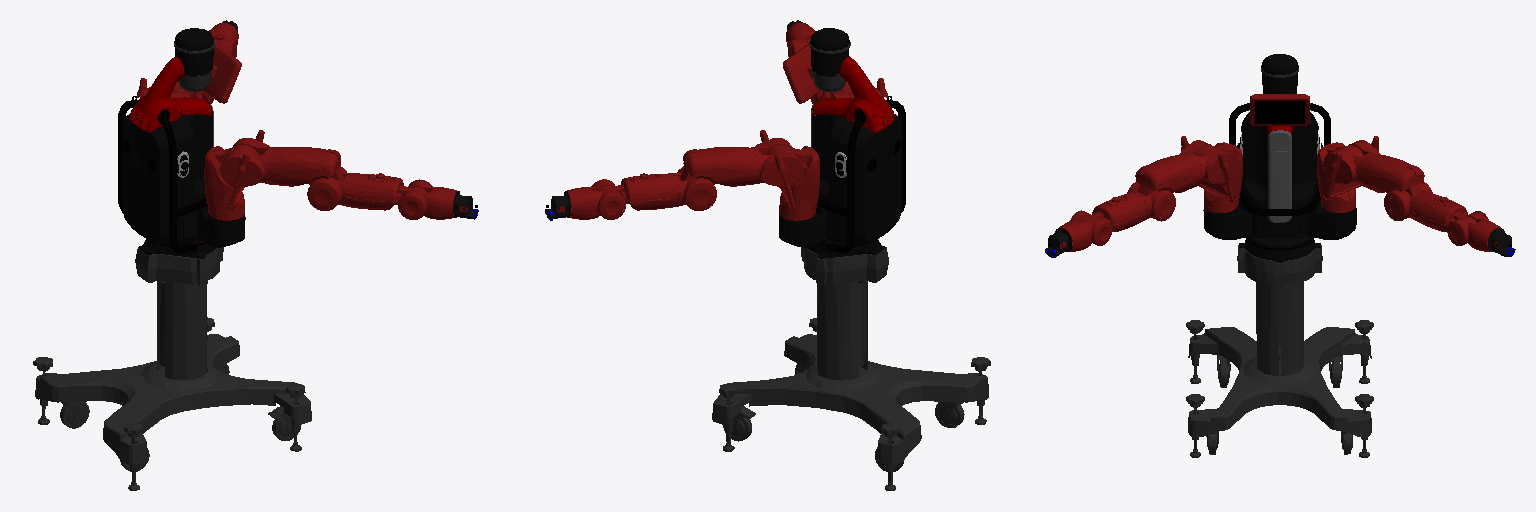
--- Render facts (derived) ---
Views: 3 orthographic renders of the robot side by side, from view 1: azimuth 30°, elevation 25°; view 2: azimuth 150°, elevation 25°; view 3: azimuth 270°, elevation 25°.
Robot: baxter — 49 links, 48 joints (15 revolute, 33 fixed); root link base; default pose: every joint at zero.
Links seen in each view (by area): view 1: pedestal, torso, right_upper_elbow, right_upper_shoulder, right_upper_forearm, right_lower_forearm, right_lower_shoulder, screen, right_lower_elbow, left_lower_forearm; view 2: pedestal, torso, left_upper_elbow, left_upper_shoulder, left_upper_forearm, left_lower_forearm, left_lower_shoulder, screen, left_lower_elbow, right_lower_forearm; view 3: pedestal, torso, left_upper_elbow, right_upper_elbow, right_upper_shoulder, left_upper_shoulder, left_upper_forearm, right_upper_forearm, left_lower_forearm, right_lower_forearm, display, left_lower_shoulder (+4 smaller).
Link boxes in pixels (x1,y1,x2,y2): pedestal: (33,247,311,490); torso: (118,28,245,258); right_upper_elbow: (267,147,343,186); right_upper_shoulder: (204,130,264,220); right_upper_forearm: (346,173,426,210); right_lower_forearm: (398,179,456,219); right_lower_shoulder: (220,138,272,187); screen: (203,43,241,103); right_lower_elbow: (307,166,350,210); left_lower_forearm: (209,23,238,57); pedestal: (712,247,990,490); torso: (779,28,905,258); left_upper_elbow: (680,147,757,186); left_upper_shoulder: (760,130,819,220); left_upper_forearm: (597,173,677,210); left_lower_forearm: (567,179,625,219); left_lower_shoulder: (751,138,803,187); screen: (783,44,820,103); left_lower_elbow: (673,166,716,210); right_lower_forearm: (786,23,814,56); pedestal: (1186,245,1373,457); torso: (1203,54,1356,262); left_upper_elbow: (1357,154,1424,195); right_upper_elbow: (1135,153,1202,195); right_upper_shoulder: (1181,136,1242,212); left_upper_shoulder: (1317,136,1378,212); left_upper_forearm: (1412,192,1476,231); right_upper_forearm: (1080,192,1147,231); left_lower_forearm: (1447,211,1500,251); right_lower_forearm: (1059,210,1111,251); display: (1255,101,1304,123); left_lower_shoulder: (1323,140,1380,184).
Bounding box of the posed robot: 1.34 × 2.07 × 1.8 m (x, y, z).
18 mesh visuals loaded from 11 distinct referenced files (11 Collada DAE).

URDF robot description (baxter):
<?xml version="1.0"?>
<!-- ============================================================================================== -->
<!-- |                                                                                            | -->
<!-- |    baxter.urdf is DEPRECATED. It is included here for backward compatibility.              | -->
<!-- |    Please use baxter.urdf.xacro by running:                                                | -->
<!-- |$ rosrun xacro xacro.py - -inorder `rospack find baxter_description`/urdf/baxter.urdf.xacro | -->
<!-- |                                                                                            | -->
<!-- ============================================================================================== -->
<robot name="baxter">
  <link name="base">
  </link>
  <link name="torso">
    <visual>
      <origin rpy="0 0 0" xyz="0 0 0" />
      <geometry>
        <mesh filename="package://baxter_description/meshes/torso/base_link.DAE" />
      </geometry>
    </visual>
    <collision>
      <origin rpy="0 0 0" xyz="0 0 0" />
      <geometry>
        <mesh filename="package://baxter_description/meshes/torso/base_link_collision.DAE" />
      </geometry>
    </collision>
    <inertial>
      <origin rpy="0 0 0" xyz="0.000000 0.000000 0.000000" />
      <mass value="35.336455" />
      <inertia ixx="1.849155" ixy="-0.000354" ixz="-0.154188" iyy="1.662671" iyz="0.003292"
        izz="0.802239" />
    </inertial>
  </link>
  <link name="left_torso_itb">
    <inertial>
      <origin rpy="0 0 0" xyz="0.000000 0.000000 0.000000" />
      <mass value="0.0001" />
      <inertia ixx="1e-08" ixy="0" ixz="0" iyy="1e-08" iyz="0" izz="1e-08" />
    </inertial>
  </link>
  <link name="right_torso_itb">
    <inertial>
      <origin rpy="0 0 0" xyz="0.000000 0.000000 0.000000" />
      <mass value="0.0001" />
      <inertia ixx="1e-08" ixy="0" ixz="0" iyy="1e-08" iyz="0" izz="1e-08" />
    </inertial>
  </link>
  <link name="pedestal">
    <visual>
      <origin rpy="0 0 0" xyz="0 0 0" />
      <geometry>
        <mesh filename="package://baxter_description/meshes/base/PEDESTAL.DAE" />
      </geometry>
      <material name="darkgray">
        <color rgba=".2 .2 .2 1" />
      </material>
    </visual>
    <collision>
      <origin rpy="0 0 0" xyz="0 0 0" />
      <geometry>
        <mesh filename="package://baxter_description/meshes/base/pedestal_link_collision.DAE" />
      </geometry>
    </collision>
    <inertial>
      <origin rpy="0 0 0" xyz="0 0 0" />
      <mass value="60.86397744" />
      <inertia ixx="5.0635929" ixy="0.00103417" ixz="0.80199628" iyy="6.08689388" iyz="0.00105311"
        izz="4.96191932" />
    </inertial>
  </link>
  <link name="head">
    <visual>
      <origin rpy="0 0 0" xyz="0 0 .00953" />
      <geometry>
        <mesh filename="package://baxter_description/meshes/head/H0.DAE" />
      </geometry>
      <material name="darkgray">
        <color rgba=".2 .2 .2 1" />
      </material>
    </visual>
    <collision>
      <origin rpy="0 0 0" xyz="0.0 0 0.0" />
      <geometry>
        <sphere radius="0.001" />
      </geometry>
    </collision>
    <inertial>
      <origin rpy="0 0 0" xyz="0 0 0" />
      <mass value="0.547767" />
      <inertia ixx="0.004641" ixy="0.000159" ixz="0.000242" iyy="0.003295" iyz="-0.001324"
        izz="0.003415" />
    </inertial>
  </link>
  <link name="sonar_ring">
    <visual>
      <origin rpy="0 0 0" xyz="-.0347 0 .00953" />
      <geometry>
        <cylinder length="0.01" radius="0.085" />
      </geometry>
      <material name="darkgray">
        <color rgba=".2 .2 .2 1" />
      </material>
    </visual>
    <collision>
      <origin rpy="0 0 0" xyz="0.0 0 0.0" />
      <geometry>
        <sphere radius="0.001" />
      </geometry>
    </collision>
    <inertial>
      <origin rpy="0 0 0" xyz="0 0 0" />
      <mass value="0.0001" />
      <inertia ixx="1e-08" ixy="0" ixz="0" iyy="1e-08" iyz="0" izz="1e-08" />
    </inertial>
  </link>
  <link name="screen">
    <visual>
      <origin rpy="0 -1.57079632679 0" xyz="0 -.00953 -.0347" />
      <geometry>
        <mesh filename="package://baxter_description/meshes/head/H1.DAE" />
      </geometry>
      <material name="darkred">
        <color rgba=".5 .1 .1 1" />
      </material>
    </visual>
    <collision>
      <origin rpy="0 0 0" xyz="0.0 0 0.0" />
      <geometry>
        <sphere radius="0.001" />
      </geometry>
    </collision>
    <inertial>
      <origin rpy="0 0 0" xyz="0 0 0" />
      <mass value="0.440171" />
      <inertia ixx="0.004006" ixy="0.000230" ixz="0.000002" iyy="0.002800" iyz="0.000029"
        izz="0.001509" />
    </inertial>
  </link>
  <link name="display">
    <visual>
      <origin rpy="0.2617993877991494 0 0" xyz="0 0 0" />
      <geometry>
        <box size="0.218 0.16 0.001" />
      </geometry>
      <material name="black">
        <color rgba="0 0 0 1" />
      </material>
    </visual>
    <inertial>
      <origin rpy="0 0 0" xyz="0 0 0" />
      <mass value="0.0001" />
      <inertia ixx="1e-08" ixy="0" ixz="0" iyy="1e-08" iyz="0" izz="1e-08" />
    </inertial>
  </link>
  <link name="head_camera">
    <inertial>
      <origin rpy="0 0 0" xyz="0 0 0" />
      <mass value="0.0001" />
      <inertia ixx="1e-08" ixy="0" ixz="0" iyy="1e-08" iyz="0" izz="1e-08" />
    </inertial>
  </link>
  <link name="dummyhead1">
    <inertial>
      <origin rpy="0 0 0" xyz="0 0 0" />
      <mass value="0.0001" />
      <inertia ixx="1e-08" ixy="0" ixz="0" iyy="1e-08" iyz="0" izz="1e-08" />
    </inertial>
  </link>
  <link name="collision_head_link_1">
    <visual>
      <origin rpy="0 0 0" xyz="0 0 0" />
      <geometry>
        <sphere radius="0.001" />
      </geometry>
      <material name="red">
        <color rgba="0.8 0.3 0.3 0.3" />
      </material>
    </visual>
    <collision>
      <origin rpy="0 0 0.0" xyz="-0.07 -0.04 0.0" />
      <geometry>
        <sphere radius="0.22" />
      </geometry>
    </collision>
    <inertial>
      <origin rpy="0 0 0" xyz="0 0 0" />
      <mass value="0.0001" />
      <inertia ixx="1e-08" ixy="0" ixz="0" iyy="1e-08" iyz="0" izz="1e-08" />
    </inertial>
  </link>
  <link name="collision_head_link_2">
    <visual>
      <origin rpy="0 0 0" xyz="0 0 0" />
      <geometry>
        <sphere radius="0.001" />
      </geometry>
      <material name="red">
        <color rgba="0.8 0.3 0.3 0.3" />
      </material>
    </visual>
    <collision>
      <origin rpy="0 0 0" xyz="-0.07 0.04 0.00" />
      <geometry>
        <sphere radius="0.22" />
      </geometry>
    </collision>
    <inertial>
      <origin rpy="0 0 0" xyz="0 0 0" />
      <mass value="0.0001" />
      <inertia ixx="1e-08" ixy="0" ixz="0" iyy="1e-08" iyz="0" izz="1e-08" />
    </inertial>
  </link>
  <joint name="collision_head_1" type="fixed">
    <origin rpy="0 0 0" xyz="0.11 0 0.75" />
    <parent link="base" />
    <child link="collision_head_link_1" />
  </joint>
  <joint name="collision_head_2" type="fixed">
    <origin rpy="0 0 0" xyz="0.11 0 0.75" />
    <parent link="base" />
    <child link="collision_head_link_2" />
  </joint>
  <joint name="dummy" type="fixed">
    <origin rpy="0 0 0" xyz="0 0 0" />
    <parent link="head" />
    <child link="dummyhead1" />
  </joint>
  <joint name="torso_t0" type="fixed">
    <origin rpy="0 0 0" xyz="0 0 0" />
    <parent link="base" />
    <child link="torso" />
    <limit effort="50000" lower="-3.01" upper="3.01" velocity="10000" />
  </joint>
  <joint name="left_torso_itb_fixed" type="fixed">
    <origin rpy="-1.57079632679 3.1415 0" xyz="-0.08897 0.15593 0.389125" />
    <parent link="torso" />
    <child link="left_torso_itb" />
  </joint>
  <joint name="right_torso_itb_fixed" type="fixed">
    <origin rpy="1.57079632679 0 0" xyz="-0.08897 -0.15593 0.389125" />
    <parent link="torso" />
    <child link="right_torso_itb" />
  </joint>
  <joint name="pedestal_fixed" type="fixed">
    <origin rpy="0 0 0" xyz="0.0 0.0 0.0" />
    <parent link="torso" />
    <child link="pedestal" />
  </joint>
  <joint name="head_pan" type="revolute">
    <origin rpy="0 0 0" xyz="0.06 0 0.686" />
    <axis xyz="0 0 1" />
    <parent link="torso" />
    <child link="head" />
    <limit effort="50000" lower="-1.57079632679" upper="1.57079632679" velocity="10000" />
    <dynamics damping="0.7" friction="0.0" />
  </joint>
  <joint name="head_nod" type="fixed">
    <origin rpy="1.75057 0 1.57079632679" xyz=".1227 0 0" />
    <parent link="head" />
    <child link="screen" />
  </joint>
  <joint name="head_camera" type="fixed">
    <origin rpy="1.75057 0 1.57079632679" xyz="0.12839 0 0.06368" />
    <parent link="head" />
    <child link="head_camera" />
  </joint>
  <joint name="display_joint" type="fixed">
    <origin rpy="0 0 0" xyz="0.0 -0.016 0.0" />
    <parent link="screen" />
    <child link="display" />
  </joint>
  <joint name="sonar_s0" type="fixed">
    <origin rpy="0 0 0" xyz="0.0947 0 .817" />
    <axis xyz="0 0 1" />
    <parent link="torso" />
    <child link="sonar_ring" />
  </joint>
  <link name="right_arm_mount">
    <!-- all defaults -->
    <gravity>0</gravity>
    <inertial>
      <origin rpy="0 0 0" xyz="0 0 0" />
      <mass value="0.0001" />
      <inertia ixx="1e-08" ixy="0" ixz="0" iyy="1e-08" iyz="0" izz="1e-08" />
    </inertial>
  </link>
  <link name="right_upper_shoulder">
    <gravity>0</gravity>
    <visual>
      <origin rpy="0 0 0" xyz="0 0 0" />
      <geometry>
        <mesh filename="package://baxter_description/meshes/upper_shoulder/S0.DAE" />
      </geometry>
      <material name="darkred">
        <color rgba=".5 .1 .1 1" />
      </material>
    </visual>
    <collision>
      <origin rpy="0 0 0" xyz="0 0 0.1361" />
      <geometry>
        <cylinder length="0.2722" radius="0.06" />
      </geometry>
    </collision>
    <inertial>
      <origin rpy="0 0 0" xyz="0.01783 0.00086 0.19127" />
      <mass value="5.70044" />
      <inertia ixx="0.04709102262" ixy="0.00012787556" ixz="0.00614870039" iyy="0.03766976455"
        iyz="0.00078086899" izz="0.03595988478" />
    </inertial>
  </link>
  <link name="right_lower_shoulder">
    <gravity>0</gravity>
    <visual>
      <origin rpy="0 0 0" xyz="0 0 0" />
      <geometry>
        <mesh filename="package://baxter_description/meshes/lower_shoulder/S1.DAE" />
      </geometry>
      <material name="darkred">
        <color rgba=".5 .1 .1 1" />
      </material>
    </visual>
    <collision>
      <origin rpy="0 0 0" xyz="0 0 0" />
      <geometry>
        <cylinder length="0.12" radius="0.06" />
      </geometry>
    </collision>
    <inertial>
      <origin rpy="0 0 0" xyz="0.06845 0.00269 -0.00529" />
      <mass value="3.22698" />
      <inertia ixx="0.01175209419" ixy="-0.00030096398" ixz="0.00207675762" iyy="0.0278859752"
        iyz="-0.00018821993" izz="0.02078749298" />
    </inertial>
  </link>
  <link name="right_upper_elbow">
    <gravity>0</gravity>
    <visual>
      <origin rpy="0 0 0" xyz="0 0 0" />
      <geometry>
        <mesh filename="package://baxter_description/meshes/upper_elbow/E0.DAE" />
      </geometry>
      <material name="darkred">
        <color rgba=".5 .1 .1 1" />
      </material>
    </visual>
    <collision>
      <origin rpy="0 0 0" xyz="0 0 -0.0535" />
      <geometry>
        <cylinder length="0.107" radius="0.06" />
      </geometry>
    </collision>
    <inertial>
      <origin rpy="0 0 0" xyz="-0.00276 0.00132 0.18086" />
      <mass value="4.31272" />
      <inertia ixx="0.02661733557" ixy="0.00029270634" ixz="0.00392189887" iyy="0.02844355207"
        iyz="0.0010838933" izz="0.01248008322" />
    </inertial>
  </link>
  <link name="right_upper_elbow_visual">
    <gravity>0</gravity>
    <collision>
      <origin rpy="0 0 0" xyz="0 0 0.1365" />
      <geometry>
        <cylinder length="0.273" radius="0.06" />
      </geometry>
    </collision>
    <inertial>
      <origin rpy="0 0 0" xyz="0 0 0" />
      <mass value="0.0001" />
      <inertia ixx="1e-08" ixy="0" ixz="0" iyy="1e-08" iyz="0" izz="1e-08" />
    </inertial>
  </link>
  <link name="right_lower_elbow">
    <gravity>0</gravity>
    <visual>
      <origin rpy="0 0 0" xyz="0 0 0" />
      <geometry>
        <mesh filename="package://baxter_description/meshes/lower_elbow/E1.DAE" />
      </geometry>
      <material name="darkred">
        <color rgba=".5 .1 .1 1" />
      </material>
    </visual>
    <collision>
      <origin rpy="0 0 0" xyz="0.0 0.0 0.0" />
      <geometry>
        <cylinder length="0.10" radius="0.06" />
      </geometry>
    </collision>
    <inertial>
      <origin rpy="0 0 0" xyz="0.02611 0.00159 -0.01117" />
      <mass value="2.07206" />
      <inertia ixx="0.00711582686" ixy="0.00036036173" ixz="0.0007459496" iyy="0.01318227876"
        iyz="-0.00019663418" izz="0.00926852064" />
    </inertial>
  </link>
  <link name="right_upper_forearm">
    <gravity>0</gravity>
    <visual>
      <origin rpy="0 0 0" xyz="0 0 0" />
      <geometry>
        <mesh filename="package://baxter_description/meshes/upper_forearm/W0.DAE" />
      </geometry>
      <material name="darkred">
        <color rgba=".5 .1 .1 1" />
      </material>
    </visual>
    <collision>
      <origin rpy="0 0 0" xyz="0 0 -0.044" />
      <geometry>
        <cylinder length="0.088" radius="0.06" />
      </geometry>
    </collision>
    <inertial>
      <origin rpy="0 0 0" xyz="-0.00168 0.0046 0.13952" />
      <mass value="2.24665" />
      <inertia ixx="0.01667742825" ixy="0.00018403705" ixz="0.00018657629" iyy="0.01675457264"
        iyz="-0.00064732352" izz="0.0037463115" />
    </inertial>
  </link>
  <link name="right_upper_forearm_visual">
    <gravity>0</gravity>
    <collision>
      <origin rpy="0 0 0" xyz="0 0 0.136" />
      <geometry>
        <cylinder length="0.272" radius="0.06" />
      </geometry>
    </collision>
    <inertial>
      <origin rpy="0 0 0" xyz="0 0 0" />
      <mass value="0.0001" />
      <inertia ixx="1e-08" ixy="0" ixz="0" iyy="1e-08" iyz="0" izz="1e-08" />
    </inertial>
  </link>
  <link name="right_arm_itb">
    <gravity>0</gravity>
    <inertial>
      <origin rpy="0 0 0" xyz="0.000000 0.000000 0.000000" />
      <mass value="0.0001" />
      <inertia ixx="1e-08" ixy="0" ixz="0" iyy="1e-08" iyz="0" izz="1e-08" />
    </inertial>
  </link>
  <link name="right_lower_forearm">
    <gravity>0</gravity>
    <visual>
      <origin rpy="0 0 0" xyz="0 0 0" />
      <geometry>
        <mesh filename="package://baxter_description/meshes/lower_forearm/W1.DAE" />
      </geometry>
      <material name="darkred">
        <color rgba=".5 .1 .1 1" />
      </material>
    </visual>
    <collision>
      <origin rpy="0 0 0" xyz="0 0 0" />
      <geometry>
        <cylinder length="0.10" radius="0.06" />
      </geometry>
    </collision>
    <inertial>
      <origin rpy="0 0 0" xyz="0.06041 0.00697 0.006" />
      <mass value="1.60979" />
      <inertia ixx="0.00387607152" ixy="-0.00044384784" ixz="-0.00021115038" iyy="0.00700537914"
        iyz="0.00015348067" izz="0.0055275524" />
    </inertial>
  </link>
  <link name="right_wrist">
    <gravity>0</gravity>
    <visual>
      <origin rpy="0 0 0" xyz="0 0 0" />
      <geometry>
        <mesh filename="package://baxter_description/meshes/wrist/W2.DAE" />
      </geometry>
      <material name="lightgrey">
        <color rgba=".1 .1 .1 1" />
      </material>
    </visual>
    <collision>
      <origin rpy="0 0 0" xyz="0 0 0" />
      <geometry>
        <cylinder length="0.165" radius="0.06" />
      </geometry>
    </collision>
    <inertial>
      <origin rpy="0 0 0" xyz="0.00198 0.00125 0.01855" />
      <mass value="0.35093" />
      <inertia ixx="0.00025289155" ixy="0.00000575311" ixz="-0.00000159345" iyy="0.0002688601"
        iyz="-0.00000519818" izz="0.0003074118" />
    </inertial>
  </link>
  <link name="right_hand">
    <gravity>0</gravity>
    <collision>
      <origin rpy="0 0 0" xyz="0 0 -0.0232" />
      <geometry>
        <cylinder length="0.0464" radius="0.04" />
      </geometry>
    </collision>
    <inertial>
      <origin rpy="0 0 0" xyz="0.01093 0.00042 -0.01532" />
      <mass value="0.19125" />
      <inertia ixx="0.00017588" ixy="0.00000147073" ixz="0.0000243633" iyy="0.00021166377"
        iyz="0.00000172689" izz="0.00023745397" />
    </inertial>
  </link>
  <link name="right_hand_camera">
    <gravity>0</gravity>
    <visual>
      <origin rpy="0 0 0" xyz="0 0 0" />
      <geometry>
        <cylinder length="0.01" radius="0.02" />
      </geometry>
      <material name="blue">
        <color rgba="0 0 1 0.8" />
      </material>
    </visual>
    <inertial>
      <origin rpy="0 0 0" xyz="0 0 0" />
      <mass value="0.0001" />
      <inertia ixx="1e-08" ixy="0" ixz="0" iyy="1e-08" iyz="0" izz="1e-08" />
    </inertial>
  </link>
  <link name="right_hand_camera_axis">
    <gravity>0</gravity>
    <inertial>
      <origin rpy="0 0 0" xyz="0 0 0" />
      <mass value="0.0001" />
      <inertia ixx="1e-08" ixy="0" ixz="0" iyy="1e-08" iyz="0" izz="1e-08" />
    </inertial>
  </link>
  <link name="right_hand_range">
    <gravity>0</gravity>
    <visual>
      <origin rpy="0 0 0" xyz="0 0 0" />
      <geometry>
        <box size="0.005 .02 .005" />
      </geometry>
      <material name="blue">
        <color rgba="0 0 1 0.8" />
      </material>
    </visual>
    <inertial>
      <origin rpy="0 0 0" xyz="0 0 0" />
      <mass value="0.0001" />
      <inertia ixx="1e-08" ixy="0" ixz="0" iyy="1e-08" iyz="0" izz="1e-08" />
    </inertial>
  </link>
  <link name="right_hand_accelerometer">
    <gravity>0</gravity>
    <visual>
      <origin rpy="0 0 0" xyz="0 0 0" />
      <geometry>
        <box size="0.01 0.01 0.01" />
      </geometry>
      <material name="black">
        <color rgba="0 0 0 1" />
      </material>
    </visual>
    <inertial>
      <origin rpy="0 0 0" xyz="0.000000 0.000000 0.000000" />
      <mass value="0.0001" />
      <inertia ixx="1e-08" ixy="0" ixz="0" iyy="1e-08" iyz="0" izz="1e-08" />
    </inertial>
  </link>
  <link name="right_gripper_base">
    <gravity>0</gravity>
    <visual>
      <origin rpy="0 0 0" xyz="0 0 -0.02" />
      <geometry>
        <box size="0.025 0.075 0.035" />
      </geometry>
      <material name="darkred">
        <color rgba=".5 .1 .1 1" />
      </material>
    </visual>
    <inertial>
      <origin rpy="0 0 0" xyz="0.000000 0.000000 0.000000" />
      <mass value="0.0001" />
      <inertia ixx="1e-08" ixy="0" ixz="0" iyy="1e-08" iyz="0" izz="1e-08" />
    </inertial>
  </link>
  <link name="right_gripper">
    <gravity>0</gravity>
    <visual>
      <origin rpy="0 0 0" xyz="0 0 0" />
      <geometry>
        <box size="0.01 0.01 0.01" />
      </geometry>
      <material name="black">
        <color rgba="0 0 0 1" />
      </material>
    </visual>
    <inertial>
      <origin rpy="0 0 0" xyz="0.000000 0.000000 0.000000" />
      <mass value="0.0001" />
      <inertia ixx="1e-08" ixy="0" ixz="0" iyy="1e-08" iyz="0" izz="1e-08" />
    </inertial>
  </link>
  <joint name="right_torso_arm_mount" type="fixed">
    <origin rpy="0 0 -0.7854" xyz="0.024645 -0.219645 0.118588" />
    <parent link="torso" />
    <child link="right_arm_mount" />
  </joint>
  <joint name="right_s0" type="revolute">
    <origin rpy="0 0 0" xyz="0.055695 0 0.011038" />
    <axis xyz="0 0 1" />
    <parent link="right_arm_mount" />
    <child link="right_upper_shoulder" />
    <limit effort="50.0" lower="-1.70167993878" upper="1.70167993878" velocity="1.5" />
    <dynamics damping="0.7" friction="0.0" />
  </joint>
  <joint name="right_s1" type="revolute">
    <origin rpy="-1.57079632679 0 0" xyz="0.069 0 0.27035" />
    <axis xyz="0 0 1" />
    <parent link="right_upper_shoulder" />
    <child link="right_lower_shoulder" />
    <limit effort="100.0" lower="-2.147" upper="1.047" velocity="1.5" />
    <dynamics damping="0.7" friction="0.0" />
  </joint>
  <joint name="right_e0" type="revolute">
    <origin rpy="1.57079632679 0 1.57079632679" xyz="0.102 0 0" />
    <axis xyz="0 0 1" />
    <parent link="right_lower_shoulder" />
    <child link="right_upper_elbow" />
    <limit effort="50.0" lower="-3.05417993878" upper="3.05417993878" velocity="1.5" />
    <dynamics damping="0.7" friction="0.0" />
  </joint>
  <joint name="right_e0_fixed" type="fixed">
    <origin rpy="1.57079632679 0 1.57079632679" xyz="0.107 0 0" />
    <axis xyz="0 0 1" />
    <parent link="right_lower_shoulder" />
    <child link="right_upper_elbow_visual" />
  </joint>
  <joint name="right_e1" type="revolute">
    <origin rpy="-1.57079632679 -1.57079632679 0" xyz="0.069 0 0.26242" />
    <axis xyz="0 0 1" />
    <parent link="right_upper_elbow" />
    <child link="right_lower_elbow" />
    <limit effort="50.0" lower="-0.05" upper="2.618" velocity="1.5" />
    <dynamics damping="0.7" friction="0.0" />
  </joint>
  <joint name="right_w0" type="revolute">
    <origin rpy="1.57079632679 0 1.57079632679" xyz="0.10359 0 0" />
    <axis xyz="0 0 1" />
    <parent link="right_lower_elbow" />
    <child link="right_upper_forearm" />
    <limit effort="15.0" lower="-3.059" upper="3.059" velocity="4.0" />
    <dynamics damping="0.7" friction="0.0" />
  </joint>
  <joint name="right_w0_fixed" type="fixed">
    <origin rpy="1.57079632679 0 1.57079632679" xyz="0.088 0 0" />
    <axis xyz="0 0 1" />
    <parent link="right_lower_elbow" />
    <child link="right_upper_forearm_visual" />
  </joint>
  <joint name="right_w0_to_itb_fixed" type="fixed">
    <origin rpy="-1.57079632679 0 1.57079632679" xyz="-0.0565 0 0.12" />
    <axis xyz="0 0 1" />
    <parent link="right_upper_forearm" />
    <child link="right_arm_itb" />
  </joint>
  <joint name="right_w1" type="revolute">
    <origin rpy="-1.57079632679 -1.57079632679 0" xyz="0.01 0 0.2707" />
    <axis xyz="0 0 1" />
    <parent link="right_upper_forearm" />
    <child link="right_lower_forearm" />
    <limit effort="15.0" lower="-1.57079632679" upper="2.094" velocity="4.0" />
    <dynamics damping="0.7" friction="0.0" />
  </joint>
  <joint name="right_w2" type="revolute">
    <origin rpy="1.57079632679 0 1.57079632679" xyz="0.115975 0 0" />
    <axis xyz="0 0 1" />
    <parent link="right_lower_forearm" />
    <child link="right_wrist" />
    <limit effort="15.0" lower="-3.059" upper="3.059" velocity="4.0" />
    <dynamics damping="0.7" friction="0.0" />
  </joint>
  <joint name="right_hand" type="fixed">
    <origin rpy="0 0 0" xyz="0 0 0.11355" />
    <axis xyz="0 0 1" />
    <parent link="right_wrist" />
    <child link="right_hand" />
    <dynamics damping="0.7" friction="0.0" />
  </joint>
  <joint name="right_hand_camera" type="fixed">
    <origin rpy="0 0 -1.57079633" xyz="0.03825 0.012 0.015355" />
    <parent link="right_hand" />
    <child link="right_hand_camera" />
  </joint>
  <joint name="right_hand_camera_axis" type="fixed">
    <origin rpy="0 0 0" xyz="0.03825 0.012 0.015355" />
    <parent link="right_hand" />
    <child link="right_hand_camera_axis" />
  </joint>
  <joint name="right_hand_range" type="fixed">
    <origin rpy="0 -1.57079632679 -1.57079632679" xyz="0.032 -0.020245 0.0288" />
    <parent link="right_hand" />
    <child link="right_hand_range" />
  </joint>
  <joint name="right_hand_accelerometer" type="fixed">
    <origin rpy="0 0 0" xyz="0.00198 0.000133 -0.0146" />
    <parent link="right_hand" />
    <child link="right_hand_accelerometer" />
  </joint>
  <joint name="right_gripper_base" type="fixed">
    <origin rpy="0 0 0" xyz="0 0 0" />
    <parent link="right_hand" />
    <child link="right_gripper_base" />
  </joint>
  <joint name="right_endpoint" type="fixed">
    <origin rpy="0 0 0" xyz="0.0 0 0.025" />
    <parent link="right_gripper_base" />
    <child link="right_gripper" />
  </joint>
  <link name="left_arm_mount">
    <!-- all defaults -->
    <gravity>0</gravity>
    <inertial>
      <origin rpy="0 0 0" xyz="0 0 0" />
      <mass value="0.0001" />
      <inertia ixx="1e-08" ixy="0" ixz="0" iyy="1e-08" iyz="0" izz="1e-08" />
    </inertial>
  </link>
  <link name="left_upper_shoulder">
    <gravity>0</gravity>
    <visual>
      <origin rpy="0 0 0" xyz="0 0 0" />
      <geometry>
        <mesh filename="package://baxter_description/meshes/upper_shoulder/S0.DAE" />
      </geometry>
      <material name="darkred">
        <color rgba=".5 .1 .1 1" />
      </material>
    </visual>
    <collision>
      <origin rpy="0 0 0" xyz="0 0 0.1361" />
      <geometry>
        <cylinder length="0.2722" radius="0.06" />
      </geometry>
    </collision>
    <inertial>
      <origin rpy="0 0 0" xyz="0.01783 0.00086 0.19127" />
      <mass value="5.70044" />
      <inertia ixx="0.04709102262" ixy="0.00012787556" ixz="0.00614870039" iyy="0.03766976455"
        iyz="0.00078086899" izz="0.03595988478" />
    </inertial>
  </link>
  <link name="left_lower_shoulder">
    <gravity>0</gravity>
    <visual>
      <origin rpy="0 0 0" xyz="0 0 0" />
      <geometry>
        <mesh filename="package://baxter_description/meshes/lower_shoulder/S1.DAE" />
      </geometry>
      <material name="darkred">
        <color rgba=".5 .1 .1 1" />
      </material>
    </visual>
    <collision>
      <origin rpy="0 0 0" xyz="0 0 0" />
      <geometry>
        <cylinder length="0.12" radius="0.06" />
      </geometry>
    </collision>
    <inertial>
      <origin rpy="0 0 0" xyz="0.06845 0.00269 -0.00529" />
      <mass value="3.22698" />
      <inertia ixx="0.01175209419" ixy="-0.00030096398" ixz="0.00207675762" iyy="0.0278859752"
        iyz="-0.00018821993" izz="0.02078749298" />
    </inertial>
  </link>
  <link name="left_upper_elbow">
    <gravity>0</gravity>
    <visual>
      <origin rpy="0 0 0" xyz="0 0 0" />
      <geometry>
        <mesh filename="package://baxter_description/meshes/upper_elbow/E0.DAE" />
      </geometry>
      <material name="darkred">
        <color rgba=".5 .1 .1 1" />
      </material>
    </visual>
    <collision>
      <origin rpy="0 0 0" xyz="0 0 -0.0535" />
      <geometry>
        <cylinder length="0.107" radius="0.06" />
      </geometry>
    </collision>
    <inertial>
      <origin rpy="0 0 0" xyz="-0.00276 0.00132 0.18086" />
      <mass value="4.31272" />
      <inertia ixx="0.02661733557" ixy="0.00029270634" ixz="0.00392189887" iyy="0.02844355207"
        iyz="0.0010838933" izz="0.01248008322" />
    </inertial>
  </link>
  <link name="left_upper_elbow_visual">
    <gravity>0</gravity>
    <collision>
      <origin rpy="0 0 0" xyz="0 0 0.1365" />
      <geometry>
        <cylinder length="0.273" radius="0.06" />
      </geometry>
    </collision>
    <inertial>
      <origin rpy="0 0 0" xyz="0 0 0" />
      <mass value="0.0001" />
      <inertia ixx="1e-08" ixy="0" ixz="0" iyy="1e-08" iyz="0" izz="1e-08" />
    </inertial>
  </link>
  <link name="left_lower_elbow">
    <gravity>0</gravity>
    <visual>
      <origin rpy="0 0 0" xyz="0 0 0" />
      <geometry>
        <mesh filename="package://baxter_description/meshes/lower_elbow/E1.DAE" />
      </geometry>
      <material name="darkred">
        <color rgba=".5 .1 .1 1" />
      </material>
    </visual>
    <collision>
      <origin rpy="0 0 0" xyz="0.0 0.0 0.0" />
      <geometry>
        <cylinder length="0.10" radius="0.06" />
      </geometry>
    </collision>
    <inertial>
      <origin rpy="0 0 0" xyz="0.02611 0.00159 -0.01117" />
      <mass value="2.07206" />
      <inertia ixx="0.00711582686" ixy="0.00036036173" ixz="0.0007459496" iyy="0.01318227876"
        iyz="-0.00019663418" izz="0.00926852064" />
    </inertial>
  </link>
  <link name="left_upper_forearm">
    <gravity>0</gravity>
    <visual>
      <origin rpy="0 0 0" xyz="0 0 0" />
      <geometry>
        <mesh filename="package://baxter_description/meshes/upper_forearm/W0.DAE" />
      </geometry>
      <material name="darkred">
        <color rgba=".5 .1 .1 1" />
      </material>
    </visual>
    <collision>
      <origin rpy="0 0 0" xyz="0 0 -0.044" />
      <geometry>
        <cylinder length="0.088" radius="0.06" />
      </geometry>
    </collision>
    <inertial>
      <origin rpy="0 0 0" xyz="-0.00168 0.0046 0.13952" />
      <mass value="2.24665" />
      <inertia ixx="0.01667742825" ixy="0.00018403705" ixz="0.00018657629" iyy="0.01675457264"
        iyz="-0.00064732352" izz="0.0037463115" />
    </inertial>
  </link>
  <link name="left_upper_forearm_visual">
    <gravity>0</gravity>
    <collision>
      <origin rpy="0 0 0" xyz="0 0 0.136" />
      <geometry>
        <cylinder length="0.272" radius="0.06" />
      </geometry>
    </collision>
    <inertial>
      <origin rpy="0 0 0" xyz="0 0 0" />
      <mass value="0.0001" />
      <inertia ixx="1e-08" ixy="0" ixz="0" iyy="1e-08" iyz="0" izz="1e-08" />
    </inertial>
  </link>
  <link name="left_arm_itb">
    <gravity>0</gravity>
    <inertial>
      <origin rpy="0 0 0" xyz="0.000000 0.000000 0.000000" />
      <mass value="0.0001" />
      <inertia ixx="1e-08" ixy="0" ixz="0" iyy="1e-08" iyz="0" izz="1e-08" />
    </inertial>
  </link>
  <link name="left_lower_forearm">
    <gravity>0</gravity>
    <visual>
      <origin rpy="0 0 0" xyz="0 0 0" />
      <geometry>
        <mesh filename="package://baxter_description/meshes/lower_forearm/W1.DAE" />
      </geometry>
      <material name="darkred">
        <color rgba=".5 .1 .1 1" />
      </material>
    </visual>
    <collision>
      <origin rpy="0 0 0" xyz="0 0 0" />
      <geometry>
        <cylinder length="0.10" radius="0.06" />
      </geometry>
    </collision>
    <inertial>
      <origin rpy="0 0 0" xyz="0.06041 0.00697 0.006" />
      <mass value="1.60979" />
      <inertia ixx="0.00387607152" ixy="-0.00044384784" ixz="-0.00021115038" iyy="0.00700537914"
        iyz="0.00015348067" izz="0.0055275524" />
    </inertial>
  </link>
  <link name="left_wrist">
    <gravity>0</gravity>
    <visual>
      <origin rpy="0 0 0" xyz="0 0 0" />
      <geometry>
        <mesh filename="package://baxter_description/meshes/wrist/W2.DAE" />
      </geometry>
      <material name="lightgrey">
        <color rgba=".1 .1 .1 1" />
      </material>
    </visual>
    <collision>
      <origin rpy="0 0 0" xyz="0 0 0" />
      <geometry>
        <cylinder length="0.165" radius="0.06" />
      </geometry>
    </collision>
    <inertial>
      <origin rpy="0 0 0" xyz="0.00198 0.00125 0.01855" />
      <mass value="0.35093" />
      <inertia ixx="0.00025289155" ixy="0.00000575311" ixz="-0.00000159345" iyy="0.0002688601"
        iyz="-0.00000519818" izz="0.0003074118" />
    </inertial>
  </link>
  <link name="left_hand">
    <gravity>0</gravity>
    <collision>
      <origin rpy="0 0 0" xyz="0 0 -0.0232" />
      <geometry>
        <cylinder length="0.0464" radius="0.04" />
      </geometry>
    </collision>
    <inertial>
      <origin rpy="0 0 0" xyz="0.01093 0.00042 -0.01532" />
      <mass value="0.19125" />
      <inertia ixx="0.00017588" ixy="0.00000147073" ixz="0.0000243633" iyy="0.00021166377"
        iyz="0.00000172689" izz="0.00023745397" />
    </inertial>
  </link>
  <link name="left_hand_camera">
    <gravity>0</gravity>
    <visual>
      <origin rpy="0 0 0" xyz="0 0 0" />
      <geometry>
        <cylinder length="0.01" radius="0.02" />
      </geometry>
      <material name="blue">
        <color rgba="0 0 1 0.8" />
      </material>
    </visual>
    <inertial>
      <origin rpy="0 0 0" xyz="0 0 0" />
      <mass value="0.0001" />
      <inertia ixx="1e-08" ixy="0" ixz="0" iyy="1e-08" iyz="0" izz="1e-08" />
    </inertial>
  </link>
  <link name="left_hand_camera_axis">
    <gravity>0</gravity>
    <inertial>
      <origin rpy="0 0 0" xyz="0 0 0" />
      <mass value="0.0001" />
      <inertia ixx="1e-08" ixy="0" ixz="0" iyy="1e-08" iyz="0" izz="1e-08" />
    </inertial>
  </link>
  <link name="left_hand_range">
    <gravity>0</gravity>
    <visual>
      <origin rpy="0 0 0" xyz="0 0 0" />
      <geometry>
        <box size="0.005 .02 .005" />
      </geometry>
      <material name="blue">
        <color rgba="0 0 1 0.8" />
      </material>
    </visual>
    <inertial>
      <origin rpy="0 0 0" xyz="0 0 0" />
      <mass value="0.0001" />
      <inertia ixx="1e-08" ixy="0" ixz="0" iyy="1e-08" iyz="0" izz="1e-08" />
    </inertial>
  </link>
  <link name="left_hand_accelerometer">
    <gravity>0</gravity>
    <visual>
      <origin rpy="0 0 0" xyz="0 0 0" />
      <geometry>
        <box size="0.01 0.01 0.01" />
      </geometry>
      <material name="black">
        <color rgba="0 0 0 1" />
      </material>
    </visual>
    <inertial>
      <origin rpy="0 0 0" xyz="0.000000 0.000000 0.000000" />
      <mass value="0.0001" />
      <inertia ixx="1e-08" ixy="0" ixz="0" iyy="1e-08" iyz="0" izz="1e-08" />
    </inertial>
  </link>
  <link name="left_gripper_base">
    <gravity>0</gravity>
    <visual>
      <origin rpy="0 0 0" xyz="0 0 -0.02" />
      <geometry>
        <box size="0.025 0.075 0.035" />
      </geometry>
      <material name="darkred">
        <color rgba=".5 .1 .1 1" />
      </material>
    </visual>
    <inertial>
      <origin rpy="0 0 0" xyz="0.000000 0.000000 0.000000" />
      <mass value="0.0001" />
      <inertia ixx="1e-08" ixy="0" ixz="0" iyy="1e-08" iyz="0" izz="1e-08" />
    </inertial>
  </link>
  <link name="left_gripper">
    <gravity>0</gravity>
    <visual>
      <origin rpy="0 0 0" xyz="0 0 0" />
      <geometry>
        <box size="0.01 0.01 0.01" />
      </geometry>
      <material name="black">
        <color rgba="0 0 0 1" />
      </material>
    </visual>
    <inertial>
      <origin rpy="0 0 0" xyz="0.000000 0.000000 0.000000" />
      <mass value="0.0001" />
      <inertia ixx="1e-08" ixy="0" ixz="0" iyy="1e-08" iyz="0" izz="1e-08" />
    </inertial>
  </link>
  <joint name="left_torso_arm_mount" type="fixed">
    <origin rpy="0 0 0.7854" xyz="0.024645 0.219645 0.118588" />
    <parent link="torso" />
    <child link="left_arm_mount" />
  </joint>
  <joint name="left_s0" type="revolute">
    <origin rpy="0 0 0" xyz="0.055695 0 0.011038" />
    <axis xyz="0 0 1" />
    <parent link="left_arm_mount" />
    <child link="left_upper_shoulder" />
    <limit effort="50.0" lower="-1.70167993878" upper="1.70167993878" velocity="1.5" />
    <dynamics damping="0.7" friction="0.0" />
  </joint>
  <joint name="left_s1" type="revolute">
    <origin rpy="-1.57079632679 0 0" xyz="0.069 0 0.27035" />
    <axis xyz="0 0 1" />
    <parent link="left_upper_shoulder" />
    <child link="left_lower_shoulder" />
    <limit effort="100.0" lower="-2.147" upper="1.047" velocity="1.5" />
    <dynamics damping="0.7" friction="0.0" />
  </joint>
  <joint name="left_e0" type="revolute">
    <origin rpy="1.57079632679 0 1.57079632679" xyz="0.102 0 0" />
    <axis xyz="0 0 1" />
    <parent link="left_lower_shoulder" />
    <child link="left_upper_elbow" />
    <limit effort="50.0" lower="-3.05417993878" upper="3.05417993878" velocity="1.5" />
    <dynamics damping="0.7" friction="0.0" />
  </joint>
  <joint name="left_e0_fixed" type="fixed">
    <origin rpy="1.57079632679 0 1.57079632679" xyz="0.107 0 0" />
    <axis xyz="0 0 1" />
    <parent link="left_lower_shoulder" />
    <child link="left_upper_elbow_visual" />
  </joint>
  <joint name="left_e1" type="revolute">
    <origin rpy="-1.57079632679 -1.57079632679 0" xyz="0.069 0 0.26242" />
    <axis xyz="0 0 1" />
    <parent link="left_upper_elbow" />
    <child link="left_lower_elbow" />
    <limit effort="50.0" lower="-0.05" upper="2.618" velocity="1.5" />
    <dynamics damping="0.7" friction="0.0" />
  </joint>
  <joint name="left_w0" type="revolute">
    <origin rpy="1.57079632679 0 1.57079632679" xyz="0.10359 0 0" />
    <axis xyz="0 0 1" />
    <parent link="left_lower_elbow" />
    <child link="left_upper_forearm" />
    <limit effort="15.0" lower="-3.059" upper="3.059" velocity="4.0" />
    <dynamics damping="0.7" friction="0.0" />
  </joint>
  <joint name="left_w0_fixed" type="fixed">
    <origin rpy="1.57079632679 0 1.57079632679" xyz="0.088 0 0" />
    <axis xyz="0 0 1" />
    <parent link="left_lower_elbow" />
    <child link="left_upper_forearm_visual" />
  </joint>
  <joint name="left_w0_to_itb_fixed" type="fixed">
    <origin rpy="-1.57079632679 0 1.57079632679" xyz="-0.0565 0 0.12" />
    <axis xyz="0 0 1" />
    <parent link="left_upper_forearm" />
    <child link="left_arm_itb" />
  </joint>
  <joint name="left_w1" type="revolute">
    <origin rpy="-1.57079632679 -1.57079632679 0" xyz="0.01 0 0.2707" />
    <axis xyz="0 0 1" />
    <parent link="left_upper_forearm" />
    <child link="left_lower_forearm" />
    <limit effort="15.0" lower="-1.57079632679" upper="2.094" velocity="4.0" />
    <dynamics damping="0.7" friction="0.0" />
  </joint>
  <joint name="left_w2" type="revolute">
    <origin rpy="1.57079632679 0 1.57079632679" xyz="0.115975 0 0" />
    <axis xyz="0 0 1" />
    <parent link="left_lower_forearm" />
    <child link="left_wrist" />
    <limit effort="15.0" lower="-3.059" upper="3.059" velocity="4.0" />
    <dynamics damping="0.7" friction="0.0" />
  </joint>
  <joint name="left_hand" type="fixed">
    <origin rpy="0 0 0" xyz="0 0 0.11355" />
    <axis xyz="0 0 1" />
    <parent link="left_wrist" />
    <child link="left_hand" />
    <dynamics damping="0.7" friction="0.0" />
  </joint>
  <joint name="left_hand_camera" type="fixed">
    <origin rpy="0 0 -1.57079633" xyz="0.03825 0.012 0.015355" />
    <parent link="left_hand" />
    <child link="left_hand_camera" />
  </joint>
  <joint name="left_hand_camera_axis" type="fixed">
    <origin rpy="0 0 0" xyz="0.03825 0.012 0.015355" />
    <parent link="left_hand" />
    <child link="left_hand_camera_axis" />
  </joint>
  <joint name="left_hand_range" type="fixed">
    <origin rpy="0 -1.57079632679 -1.57079632679" xyz="0.032 -0.020245 0.0288" />
    <parent link="left_hand" />
    <child link="left_hand_range" />
  </joint>
  <joint name="left_hand_accelerometer" type="fixed">
    <origin rpy="0 0 0" xyz="0.00198 0.000133 -0.0146" />
    <parent link="left_hand" />
    <child link="left_hand_accelerometer" />
  </joint>
  <joint name="left_gripper_base" type="fixed">
    <origin rpy="0 0 0" xyz="0 0 0" />
    <parent link="left_hand" />
    <child link="left_gripper_base" />
  </joint>
  <joint name="left_endpoint" type="fixed">
    <origin rpy="0 0 0" xyz="0.0 0 0.025" />
    <parent link="left_gripper_base" />
    <child link="left_gripper" />
  </joint>

  <!-- Transmissions -->

  <!-- Right Arm -->
  <transmission name="right_tran1">
    <type>transmission_interface/SimpleTransmission</type>
    <joint name="right_s0">
      <hardwareInterface>EffortJointInterface</hardwareInterface>
    </joint>
    <actuator name="right_motor1">
      <hardwareInterface>EffortJointInterface</hardwareInterface>
      <mechanicalReduction>1</mechanicalReduction>
    </actuator>
  </transmission>
  <transmission name="right_tran2">
    <type>transmission_interface/SimpleTransmission</type>
    <joint name="right_s1">
      <hardwareInterface>EffortJointInterface</hardwareInterface>
    </joint>
    <actuator name="right_motor2">
      <hardwareInterface>EffortJointInterface</hardwareInterface>
      <mechanicalReduction>1</mechanicalReduction>
    </actuator>
  </transmission>
  <transmission name="right_tran3">
    <type>transmission_interface/SimpleTransmission</type>
    <joint name="right_e0">
      <hardwareInterface>EffortJointInterface</hardwareInterface>
    </joint>
    <actuator name="right_motor3">
      <hardwareInterface>EffortJointInterface</hardwareInterface>
      <mechanicalReduction>1</mechanicalReduction>
    </actuator>
  </transmission>
  <transmission name="right_tran4">
    <type>transmission_interface/SimpleTransmission</type>
    <joint name="right_e1">
      <hardwareInterface>EffortJointInterface</hardwareInterface>
    </joint>
    <actuator name="right_motor4">
      <hardwareInterface>EffortJointInterface</hardwareInterface>
      <mechanicalReduction>1</mechanicalReduction>
    </actuator>
  </transmission>
  <transmission name="right_tran5">
    <type>transmission_interface/SimpleTransmission</type>
    <joint name="right_w0">
      <hardwareInterface>EffortJointInterface</hardwareInterface>
    </joint>
    <actuator name="right_motor5">
      <hardwareInterface>EffortJointInterface</hardwareInterface>
      <mechanicalReduction>1</mechanicalReduction>
    </actuator>
  </transmission>
  <transmission name="right_tran6">
    <type>transmission_interface/SimpleTransmission</type>
    <joint name="right_w1">
      <hardwareInterface>EffortJointInterface</hardwareInterface>
    </joint>
    <actuator name="right_motor6">
      <hardwareInterface>EffortJointInterface</hardwareInterface>
      <mechanicalReduction>1</mechanicalReduction>
    </actuator>
  </transmission>
  <transmission name="right_tran7">
    <type>transmission_interface/SimpleTransmission</type>
    <joint name="right_w2">
      <hardwareInterface>EffortJointInterface</hardwareInterface>
    </joint>
    <actuator name="right_motor7">
      <hardwareInterface>EffortJointInterface</hardwareInterface>
      <mechanicalReduction>1</mechanicalReduction>
    </actuator>
  </transmission>

  <!-- Left Arm -->
  <transmission name="left_tran1">
    <type>transmission_interface/SimpleTransmission</type>
    <joint name="left_s0">
      <hardwareInterface>EffortJointInterface</hardwareInterface>
    </joint>
    <actuator name="left_motor1">
      <hardwareInterface>EffortJointInterface</hardwareInterface>
      <mechanicalReduction>1</mechanicalReduction>
    </actuator>
  </transmission>
  <transmission name="left_tran2">
    <type>transmission_interface/SimpleTransmission</type>
    <joint name="left_s1">
      <hardwareInterface>EffortJointInterface</hardwareInterface>
    </joint>
    <actuator name="left_motor2">
      <hardwareInterface>EffortJointInterface</hardwareInterface>
      <mechanicalReduction>1</mechanicalReduction>
    </actuator>
  </transmission>
  <transmission name="left_tran3">
    <type>transmission_interface/SimpleTransmission</type>
    <joint name="left_e0">
      <hardwareInterface>EffortJointInterface</hardwareInterface>
    </joint>
    <actuator name="left_motor3">
      <hardwareInterface>EffortJointInterface</hardwareInterface>
      <mechanicalReduction>1</mechanicalReduction>
    </actuator>
  </transmission>
  <transmission name="left_tran4">
    <type>transmission_interface/SimpleTransmission</type>
    <joint name="left_e1">
      <hardwareInterface>EffortJointInterface</hardwareInterface>
    </joint>
    <actuator name="left_motor4">
      <hardwareInterface>EffortJointInterface</hardwareInterface>
      <mechanicalReduction>1</mechanicalReduction>
    </actuator>
  </transmission>
  <transmission name="left_tran5">
    <type>transmission_interface/SimpleTransmission</type>
    <joint name="left_w0">
      <hardwareInterface>EffortJointInterface</hardwareInterface>
    </joint>
    <actuator name="left_motor5">
      <hardwareInterface>EffortJointInterface</hardwareInterface>
      <mechanicalReduction>1</mechanicalReduction>
    </actuator>
  </transmission>
  <transmission name="left_tran6">
    <type>transmission_interface/SimpleTransmission</type>
    <joint name="left_w1">
      <hardwareInterface>EffortJointInterface</hardwareInterface>
    </joint>
    <actuator name="left_motor6">
      <hardwareInterface>EffortJointInterface</hardwareInterface>
      <mechanicalReduction>1</mechanicalReduction>
    </actuator>
  </transmission>
  <transmission name="left_tran7">
    <type>transmission_interface/SimpleTransmission</type>
    <joint name="left_w2">
      <hardwareInterface>EffortJointInterface</hardwareInterface>
    </joint>
    <actuator name="left_motor7">
      <hardwareInterface>EffortJointInterface</hardwareInterface>
      <mechanicalReduction>1</mechanicalReduction>
    </actuator>
  </transmission>

  <!-- Head -->
  <transmission name="head1">
    <type>transmission_interface/SimpleTransmission</type>
    <joint name="head_pan">
      <hardwareInterface>EffortJointInterface</hardwareInterface>
    </joint>
    <actuator name="head_motor1">
      <hardwareInterface>EffortJointInterface</hardwareInterface>
      <mechanicalReduction>1</mechanicalReduction>
    </actuator>
  </transmission>

  <!-- ros_control plugin -->
  <gazebo>
    <plugin name="baxter_ros_control" filename="libbaxter_gazebo_ros_control.so">
      <robotNamespace>/robot</robotNamespace>
    </plugin>
  </gazebo>

  <!-- Gazebo-Specific Link Properties -->
  <gazebo reference="torso">
    <selfCollide>true</selfCollide>
  </gazebo>
  <gazebo reference="head_pan">
    <implicitSpringDamper>1</implicitSpringDamper>
  </gazebo>
  <gazebo reference="right_s0">
    <implicitSpringDamper>1</implicitSpringDamper>
  </gazebo>
  <gazebo reference="right_s1">
    <implicitSpringDamper>1</implicitSpringDamper>
  </gazebo>
  <gazebo reference="right_e0">
    <implicitSpringDamper>1</implicitSpringDamper>
  </gazebo>
  <gazebo reference="right_e1">
    <implicitSpringDamper>1</implicitSpringDamper>
  </gazebo>
  <gazebo reference="right_w0">
    <implicitSpringDamper>1</implicitSpringDamper>
  </gazebo>
  <gazebo reference="right_w1">
    <implicitSpringDamper>1</implicitSpringDamper>
  </gazebo>
  <gazebo reference="right_w2">
    <implicitSpringDamper>1</implicitSpringDamper>
  </gazebo>
  <gazebo reference="left_s0">
    <implicitSpringDamper>1</implicitSpringDamper>
  </gazebo>
  <gazebo reference="left_s1">
    <implicitSpringDamper>1</implicitSpringDamper>
  </gazebo>
  <gazebo reference="left_e0">
    <implicitSpringDamper>1</implicitSpringDamper>
  </gazebo>
  <gazebo reference="left_e1">
    <implicitSpringDamper>1</implicitSpringDamper>
  </gazebo>
  <gazebo reference="left_w0">
    <implicitSpringDamper>1</implicitSpringDamper>
  </gazebo>
  <gazebo reference="left_w1">
    <implicitSpringDamper>1</implicitSpringDamper>
  </gazebo>
  <gazebo reference="left_w2">
    <implicitSpringDamper>1</implicitSpringDamper>
  </gazebo>
  <gazebo reference="head_camera">
    <sensor name="head_camera" type="camera">
      <update_rate>30.0</update_rate>
      <camera name="head_camera">
        <pose>0.0 0.21 0.0 0.0 -0.8 -1.570796327 </pose>
        <horizontal_fov>1.3962634</horizontal_fov>
        <image>
          <width>800</width>
          <height>800</height>
          <format>R8G8B8</format>
        </image>
        <clip>
          <near>0.02</near>
          <far>300</far>
        </clip>
        <noise>
          <type>gaussian</type>
          <mean>0.0</mean>
          <stddev>0.007</stddev>
        </noise>
      </camera>
      <plugin filename="libgazebo_ros_camera.so" name="camera_controller">
        <alwaysOn>true</alwaysOn>
        <updateRate>0.0</updateRate>
        <cameraName>head_camera</cameraName>
        <imageTopicName>image</imageTopicName>
        <cameraInfoTopicName>camera_info</cameraInfoTopicName>
        <frameName>head_camera</frameName>
        <hackBaseline>0.07</hackBaseline>
        <distortionK1>0.0</distortionK1>
        <distortionK2>0.0</distortionK2>
        <distortionK3>0.0</distortionK3>
        <distortionT1>0.0</distortionT1>
        <distortionT2>0.0</distortionT2>
        <robotNamespace>/cameras</robotNamespace>
      </plugin>
    </sensor>
  </gazebo>
  <gazebo reference="right_hand_camera">
    <sensor name="right_hand_camera" type="camera">
      <update_rate>30.0</update_rate>
      <camera name="right_hand_camera">
        <pose>0.0 0.0 0.0 0.0 -1.570796327 1.570796327 </pose>
        <horizontal_fov>1.3962634</horizontal_fov>
        <image>
          <width>800</width>
          <height>800</height>
          <format>R8G8B8</format>
        </image>
        <clip>
          <near>0.02</near>
          <far>300</far>
        </clip>
        <noise>
          <type>gaussian</type>
          <mean>0.0</mean>
          <stddev>0.007</stddev>
        </noise>
      </camera>
      <plugin filename="libgazebo_ros_camera.so" name="camera_controller">
        <alwaysOn>true</alwaysOn>
        <updateRate>0.0</updateRate>
        <cameraName>right_hand_camera</cameraName>
        <imageTopicName>image</imageTopicName>
        <cameraInfoTopicName>camera_info</cameraInfoTopicName>
        <frameName>right_hand_camera</frameName>
        <hackBaseline>0.07</hackBaseline>
        <distortionK1>0.0</distortionK1>
        <distortionK2>0.0</distortionK2>
        <distortionK3>0.0</distortionK3>
        <distortionT1>0.0</distortionT1>
        <distortionT2>0.0</distortionT2>
        <robotNamespace>/cameras</robotNamespace>
      </plugin>
    </sensor>
  </gazebo>
  <gazebo reference="left_hand_camera">
    <sensor name="left_hand_camera" type="camera">
      <update_rate>30.0</update_rate>
      <camera name="left_hand_camera">
        <pose>0.0 0.0 0.0 0.0 -1.570796327 1.570796327 </pose>
        <horizontal_fov>1.3962634</horizontal_fov>
        <image>
          <width>800</width>
          <height>800</height>
          <format>R8G8B8</format>
        </image>
        <clip>
          <near>0.02</near>
          <far>300</far>
        </clip>
        <noise>
          <type>gaussian</type>
          <mean>0.0</mean>
          <stddev>0.007</stddev>
        </noise>
      </camera>
      <plugin filename="libgazebo_ros_camera.so" name="camera_controller">
        <alwaysOn>true</alwaysOn>
        <updateRate>0.0</updateRate>
        <cameraName>left_hand_camera</cameraName>
        <imageTopicName>image</imageTopicName>
        <cameraInfoTopicName>camera_info</cameraInfoTopicName>
        <frameName>left_hand_camera</frameName>
        <hackBaseline>0.07</hackBaseline>
        <distortionK1>0.0</distortionK1>
        <distortionK2>0.0</distortionK2>
        <distortionK3>0.0</distortionK3>
        <distortionT1>0.0</distortionT1>
        <distortionT2>0.0</distortionT2>
        <robotNamespace>/cameras</robotNamespace>
      </plugin>
    </sensor>
  </gazebo>
  <gazebo reference="display">
    <visual>
      <plugin name="screen_video_controller" filename="libgazebo_ros_video.so">
        <height>600</height>
        <width>1024</width>
        <topicName>/robot/xdisplay</topicName>
      </plugin>
    </visual>
  </gazebo>
  <gazebo reference="sonar_ring">
    <sensor name="sonar" type="ray">
      <pose>0.0 0.0 0.0 0.0 0.0 0.0</pose>
      <ray>
        <scan>
          <horizontal>
            <samples>12</samples>
            <resolution>1.0</resolution>
            <min_angle>-3.14</min_angle>
            <max_angle>3.14</max_angle>
          </horizontal>
          <vertical>
            <samples>2</samples>
            <resolution>1.0</resolution>
            <min_angle>-0.001</min_angle>
            <max_angle>0</max_angle>
          </vertical>
        </scan>
        <range>
          <min>0.05</min>
          <max>50.0</max>
        </range>
      </ray>
      <plugin name="sonar_plugin" filename="libgazebo_ros_block_laser.so">
        <gaussianNoise>0.00</gaussianNoise>
        <alwaysOn>true</alwaysOn>
        <updateRate>100.0</updateRate>
        <topicName>/robot/sonar/head_sonar/state</topicName>
        <frameName>sonar_ring</frameName>
      </plugin>
      <always_on>true</always_on>
      <update_rate>100.0</update_rate>
    </sensor>
  </gazebo>
  <gazebo reference="right_hand_range">
    <sensor name="ir_right" type="ray">
      <pose>0.0 0.0 0.0 0.0 0.0 0.0</pose>
      <ray>
        <scan>
          <horizontal>
            <samples>1</samples>
            <resolution>1.0</resolution>
            <min_angle>-0.5</min_angle>
            <max_angle>0.5</max_angle>
          </horizontal>
        </scan>
        <range>
          <min>0.004</min>
          <max>0.4</max>
        </range>
      </ray>
      <plugin name="plugin_3" filename="libgazebo_ros_laser.so">
        <gaussianNoise>0.005</gaussianNoise>
        <alwaysOn>true</alwaysOn>
        <updateRate>100</updateRate>
        <topicName>/sim/laserscan/right_hand_range/state</topicName>
        <frameName>right_hand_range</frameName>
      </plugin>
      <always_on>true</always_on>
      <update_rate>100.0</update_rate>
    </sensor>
  </gazebo>
  <gazebo reference="left_hand_range">
    <sensor name="ir_left" type="ray">
      <pose>0.0 0.0 0.0 0.0 0.0 0.0</pose>
      <ray>
        <scan>
          <horizontal>
            <samples>1</samples>
            <resolution>1.0</resolution>
            <min_angle>-0.5</min_angle>
            <max_angle>0.5</max_angle>
          </horizontal>
        </scan>
        <range>
          <min>0.004</min>
          <max>0.4</max>
        </range>
      </ray>
      <plugin name="plugin_4" filename="libgazebo_ros_laser.so">
        <gaussianNoise>0.005</gaussianNoise>
        <alwaysOn>true</alwaysOn>
        <updateRate>100</updateRate>
        <topicName>/sim/laserscan/left_hand_range/state</topicName>
        <frameName>left_hand_range</frameName>
      </plugin>
      <always_on>true</always_on>
      <update_rate>100.0</update_rate>
    </sensor>
  </gazebo>
</robot>
